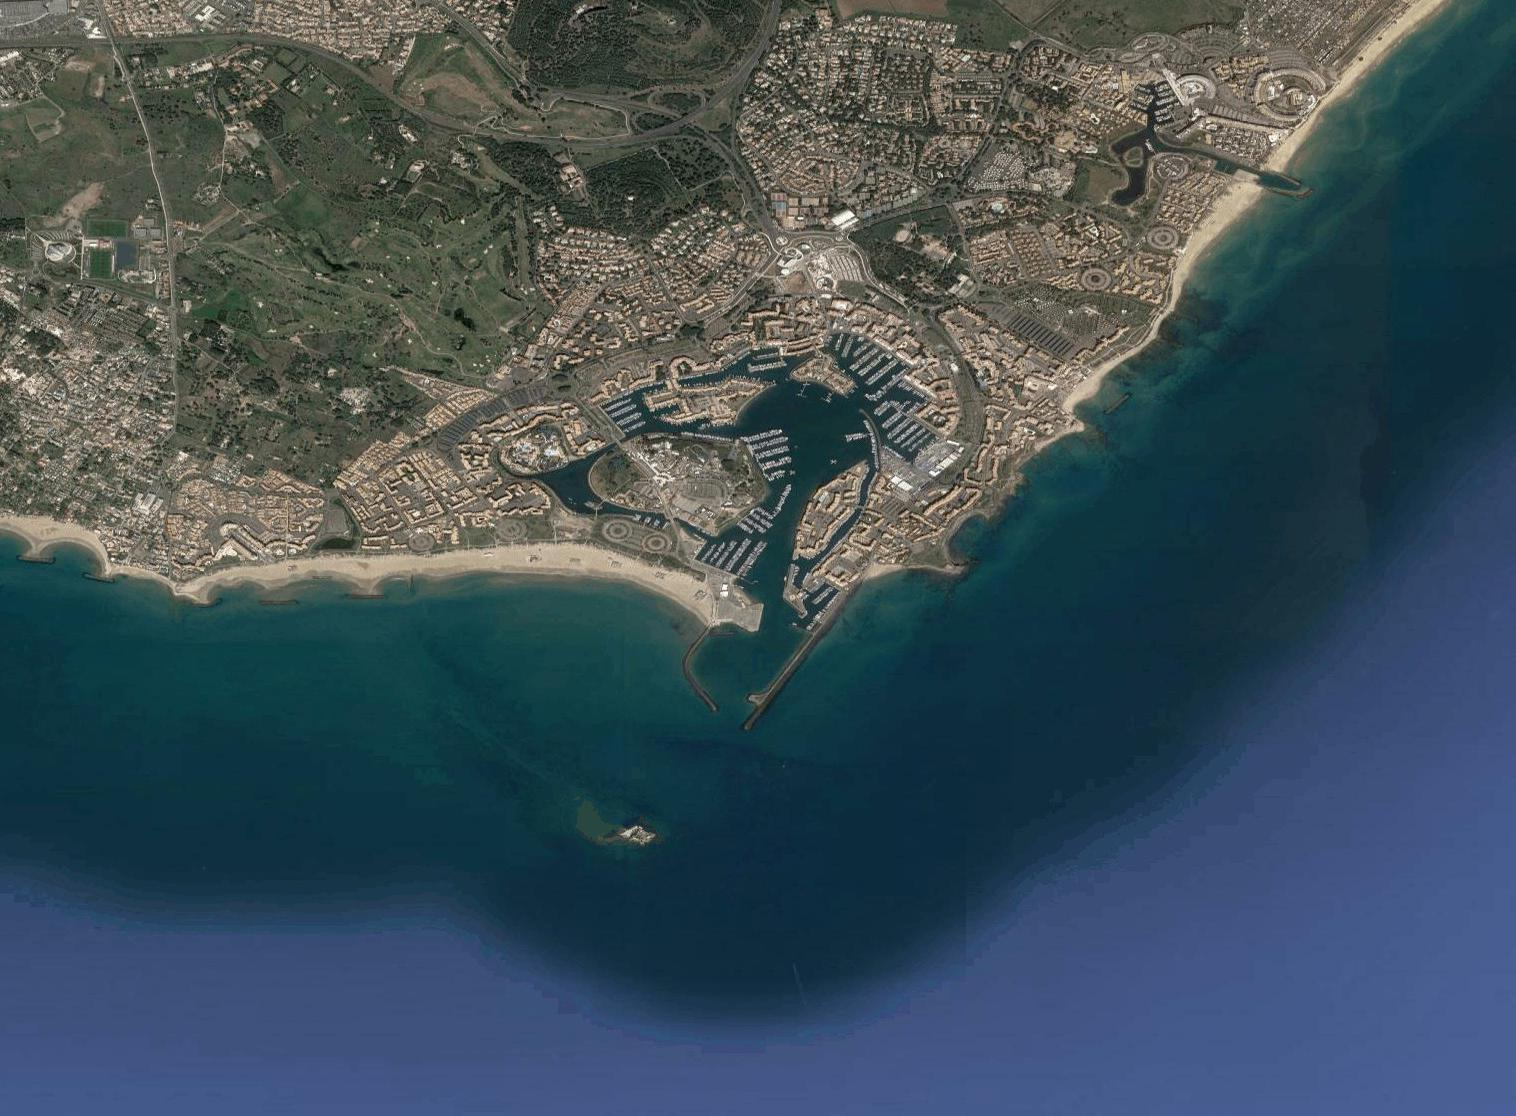harbor: (538, 279, 1028, 751)
motorway: (338, 59, 460, 134), (631, 80, 740, 145), (465, 115, 631, 157), (174, 33, 339, 69), (440, 1, 517, 77), (736, 1, 789, 82), (1, 33, 169, 55)
